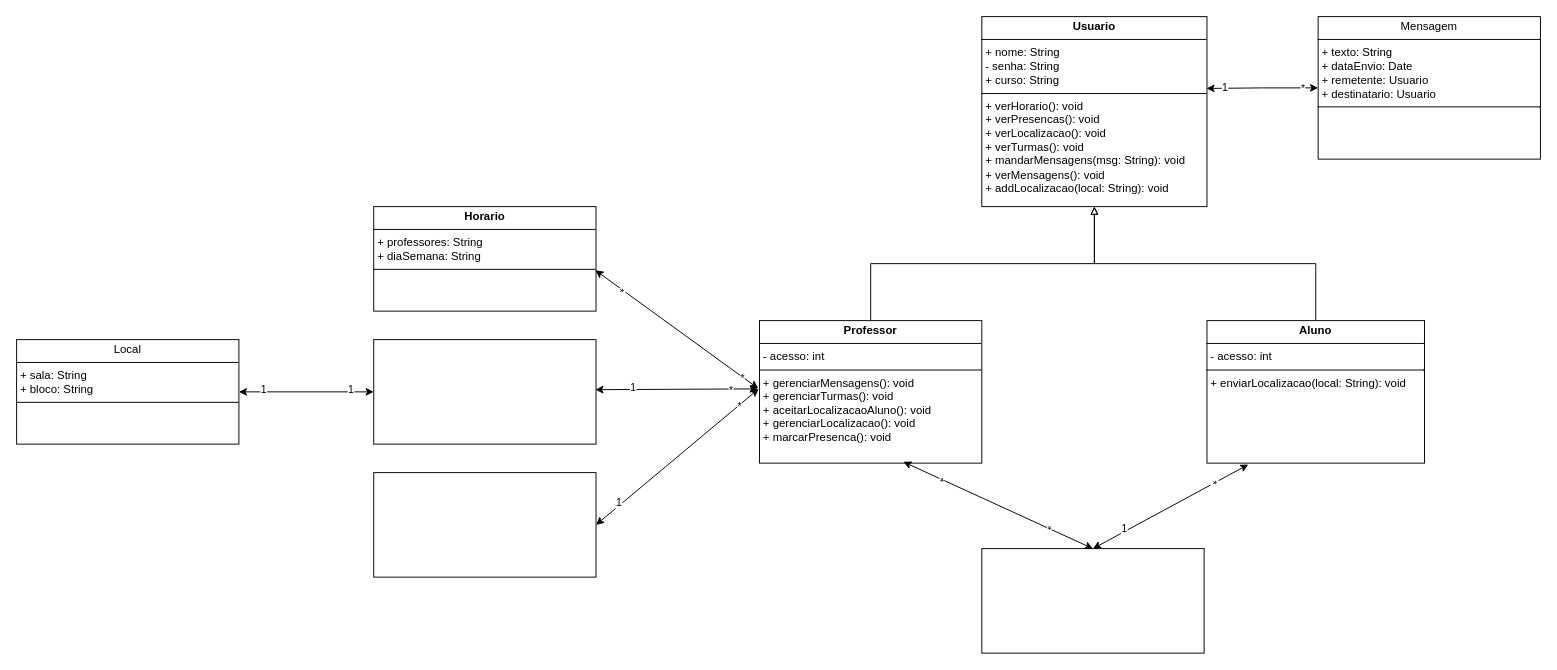
The diagram is 1557 pixels wide and 670 high, and some of its shapes have lost their labels. The centre of each missing label's shape, as x and y in pixels:
"Localizacao + local: String" goes at [484,391].
"Presenca + presente: Boolean + horario: DateTime + data: Date" goes at [484,524].
"Turma + numero: int + curso: String" goes at [1092,600].
